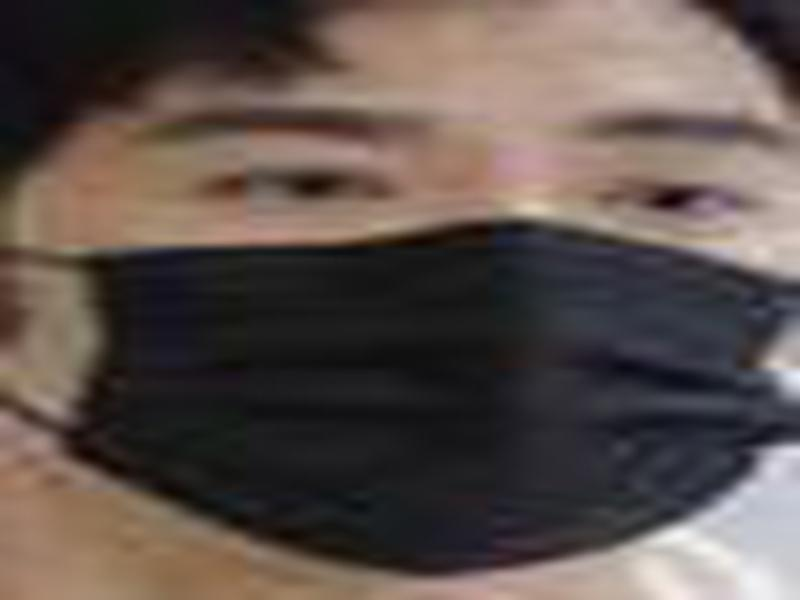with_mask: (1, 1, 798, 588)
